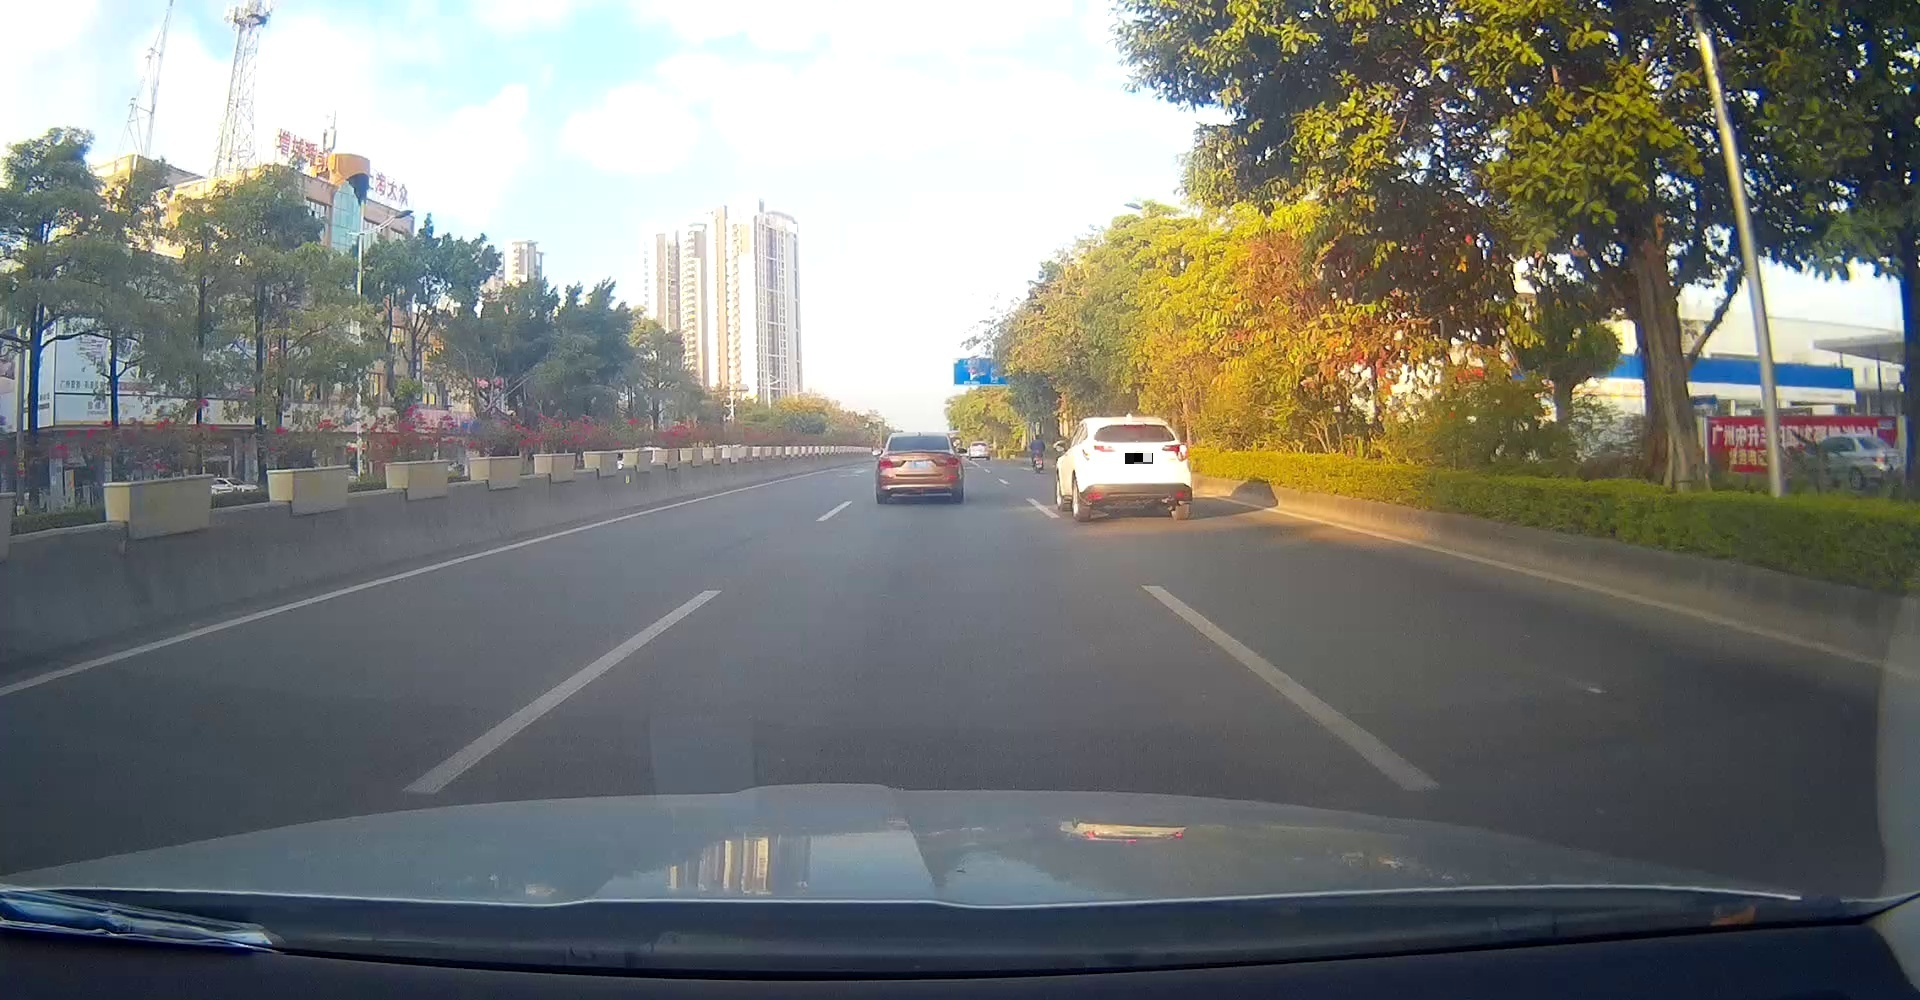L_light: (1082, 444, 1117, 458), (877, 459, 894, 472)
R_light: (1161, 444, 1189, 461), (942, 456, 960, 467)
T_light: (1124, 423, 1145, 428), (913, 448, 927, 451)
day-brake: (1082, 416, 1191, 522)
day-no: (876, 431, 963, 504)
plate_1: (1125, 453, 1153, 464)
